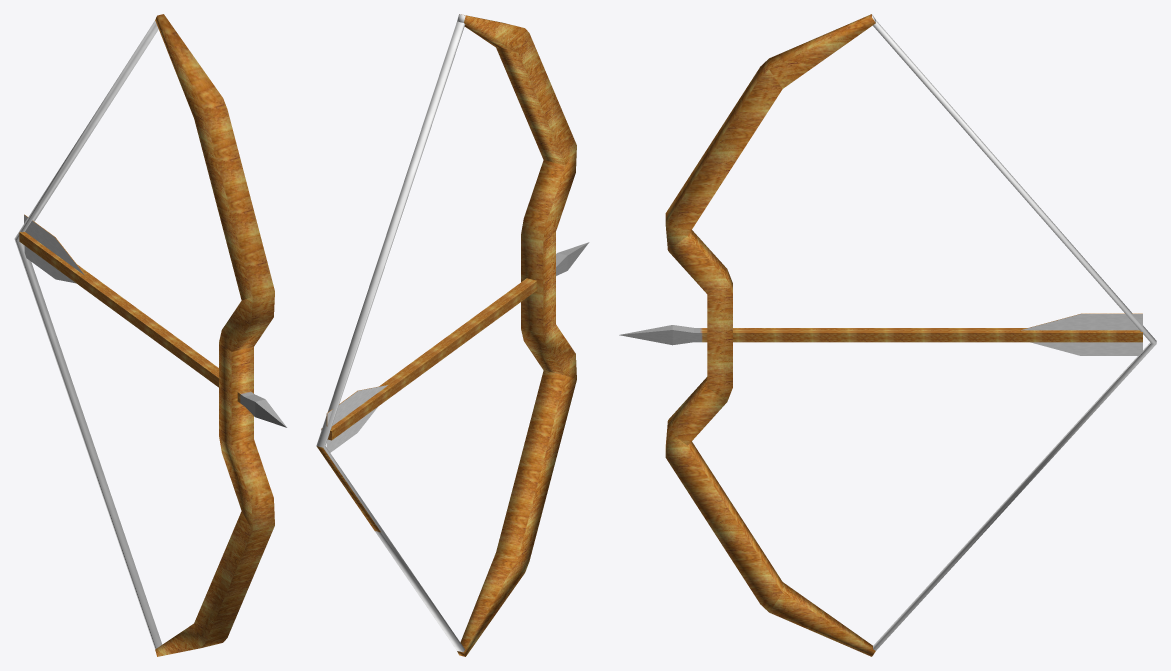
The model's file is HQbow.fbx.
3 views of the same model, side by side, from view 1: azimuth 30°, elevation 25°; view 2: azimuth 150°, elevation 25°; view 3: azimuth 270°, elevation 25° (orthographic).
Parts seen in each view (by area): view 1: Bow, Arrow; view 2: Bow, Arrow; view 3: Bow, Arrow.
Part boxes in pixels (x1=…): Bow: x1=14, y1=14, x2=274, y2=656; Arrow: x1=19, y1=214, x2=286, y2=427; Bow: x1=316, y1=14, x2=576, y2=656; Arrow: x1=321, y1=242, x2=589, y2=452; Bow: x1=665, y1=14, x2=1156, y2=656; Arrow: x1=619, y1=313, x2=1142, y2=355.
Size of the model in its own units: 0.038 by 0.7943 by 1.04.
1 material, 1 textured.
